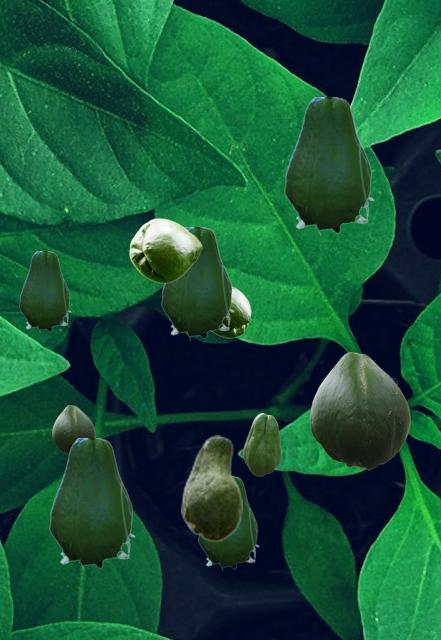sayote: (284, 97, 373, 235), (310, 352, 409, 469), (49, 438, 134, 570), (161, 227, 233, 340), (181, 435, 241, 541), (198, 476, 258, 570), (129, 218, 201, 282), (19, 251, 70, 332), (243, 413, 280, 475), (52, 405, 94, 454), (211, 286, 250, 337)
